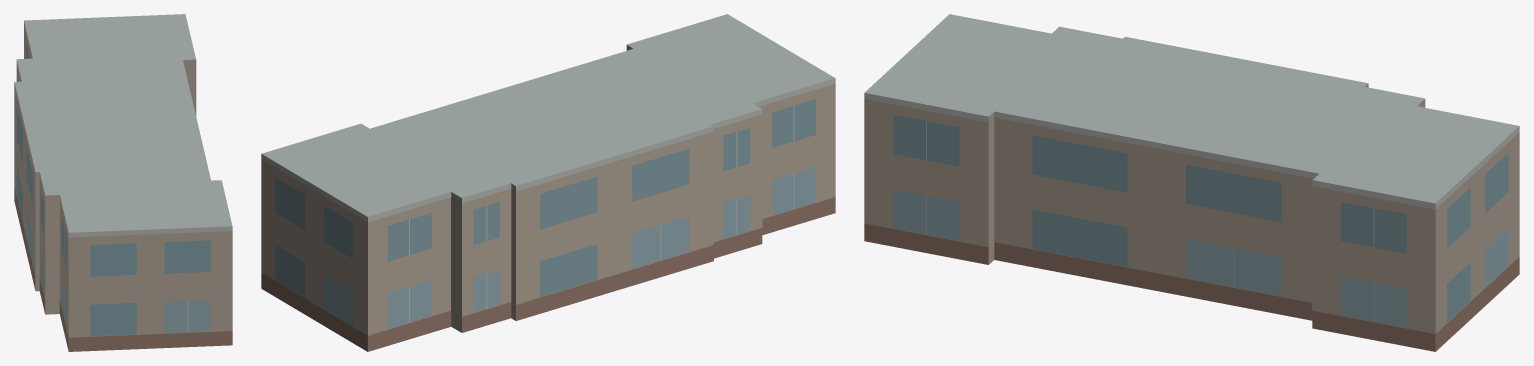
File: survey-upis-32821627.glb
3 renders of one model, left to right at view 1: azimuth 30°, elevation 25°; view 2: azimuth 150°, elevation 25°; view 3: azimuth 270°, elevation 25°, orthographic. The views are drawn at different scales.
Parts seen in each view (by area): view 1: survey-upis-32821627.tmp; view 2: survey-upis-32821627.tmp; view 3: survey-upis-32821627.tmp.
Part boxes in pixels (box(x1,y1,x2,y2)): survey-upis-32821627.tmp: box(14, 14, 232, 351); survey-upis-32821627.tmp: box(261, 14, 835, 351); survey-upis-32821627.tmp: box(864, 14, 1519, 351).
Bounding box in the file's own units: 16.72 × 6.1 × 24.43.
